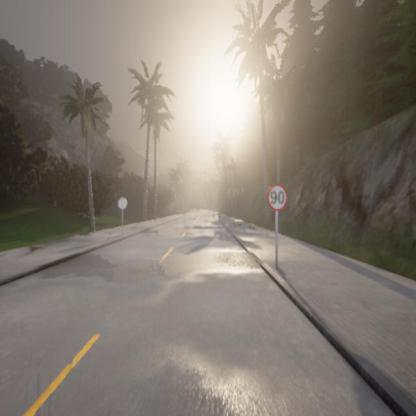traffic_sign_90: (267, 184, 288, 210)
